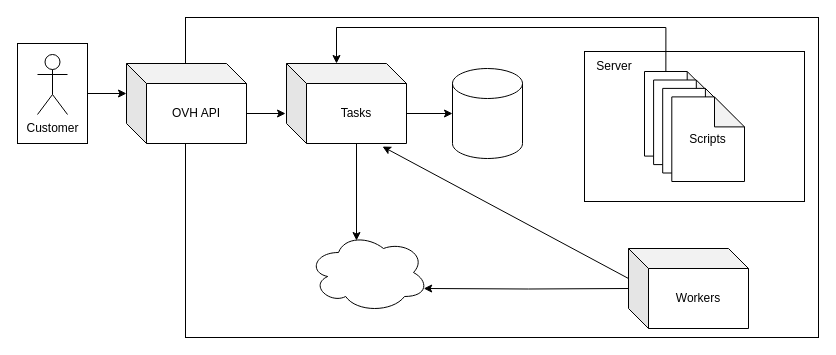
This 836x355 diagram has some shape labels left out. The shapes that lost their labels are listed below. From the top down, each one's centre as x and y in pixels, then its label:
pixel 487 113: Tasks DB
pixel 368 272: Temporal Cluster
